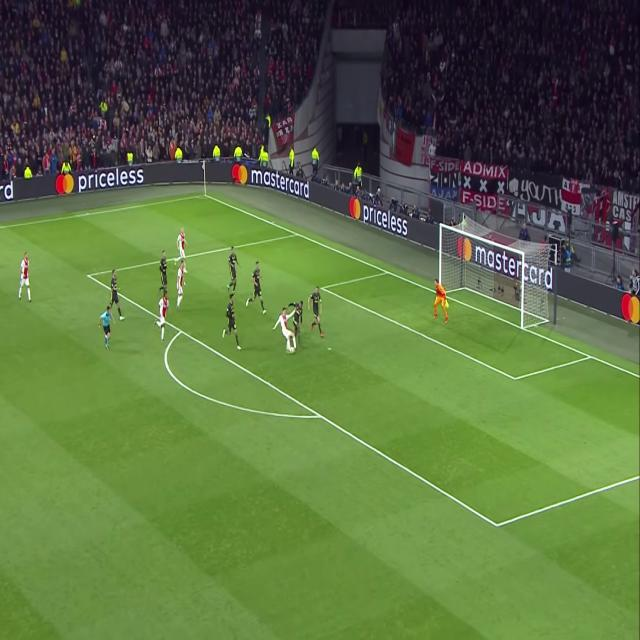Ball: (290, 346, 294, 354)
GoalKeeper: (431, 282, 450, 323)
TEAM 1: (307, 287, 324, 340), (109, 263, 123, 319), (227, 293, 240, 352), (252, 262, 264, 302), (228, 250, 240, 288), (293, 293, 303, 335), (159, 252, 169, 286)
TEAM 2: (276, 305, 296, 359), (174, 217, 188, 271), (17, 252, 31, 303), (156, 290, 169, 335), (175, 258, 187, 306)
